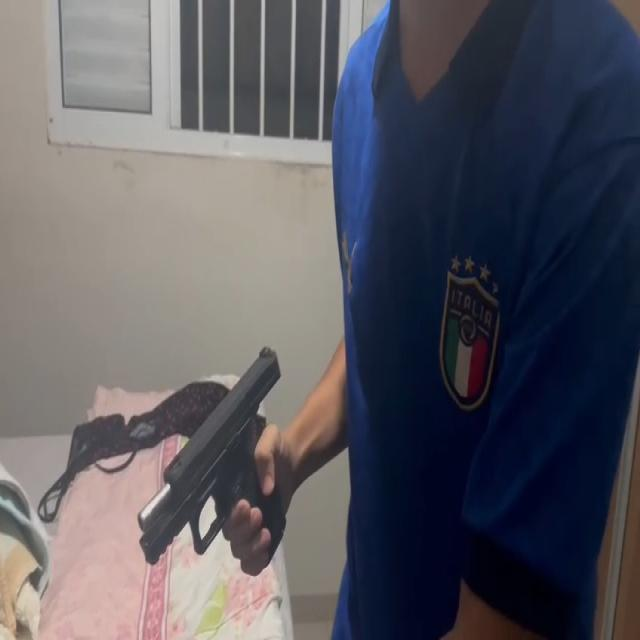gun: (134, 340, 282, 570)
